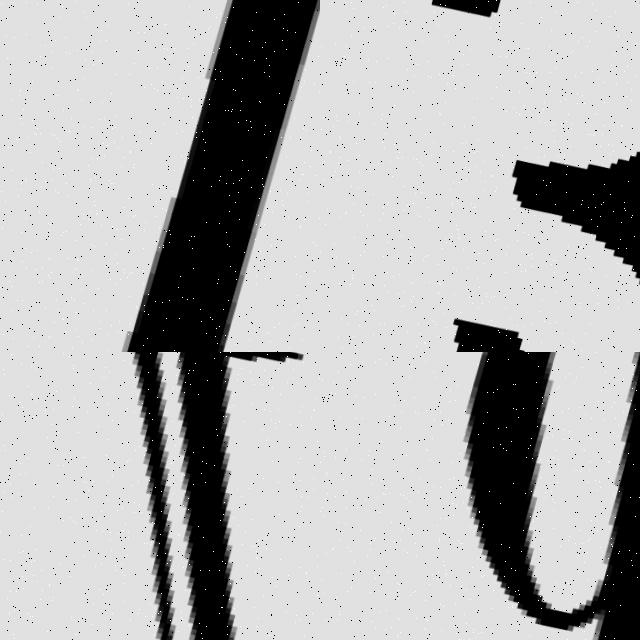1: (0, 352, 320, 640)
3: (320, 0, 640, 352)
D: (354, 352, 640, 640)
L: (93, 0, 320, 352)
